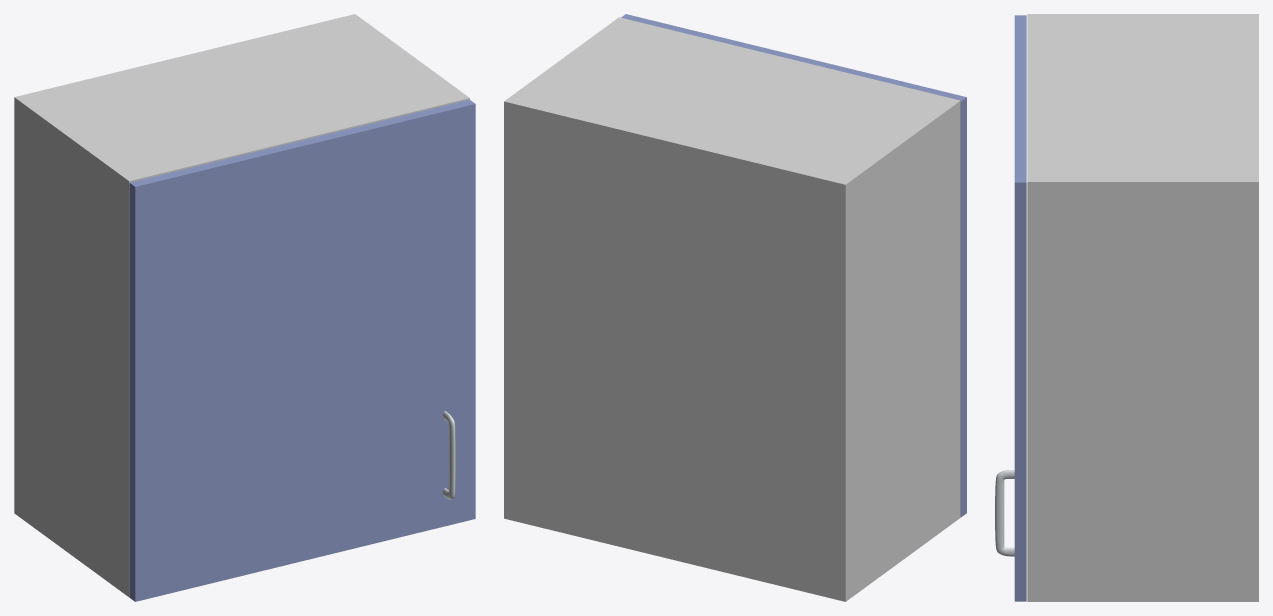
The model's file is Cabinet4.fbx.
3 renders of one model, left to right at view 1: azimuth 30°, elevation 25°; view 2: azimuth 150°, elevation 25°; view 3: azimuth 270°, elevation 25°, orthographic.
Visible parts, largest first — view 1: Cabinet1_Door.001, Cabinet1.006, Handle.004; view 2: Cabinet1.006, Cabinet1_Door.001; view 3: Cabinet1.006, Cabinet1_Door.001, Handle.004.
Boxes of the visible parts, x1=… form: Cabinet1_Door.001: x1=129, y1=99, x2=475, y2=601; Cabinet1.006: x1=14, y1=14, x2=469, y2=596; Handle.004: x1=443, y1=411, x2=455, y2=499; Cabinet1.006: x1=504, y1=17, x2=960, y2=601; Cabinet1_Door.001: x1=621, y1=14, x2=966, y2=517; Cabinet1.006: x1=1027, y1=14, x2=1258, y2=601; Cabinet1_Door.001: x1=1014, y1=15, x2=1026, y2=601; Handle.004: x1=995, y1=470, x2=1014, y2=556.
Bounding box in the file's own units: 60 × 70 × 39.86.
